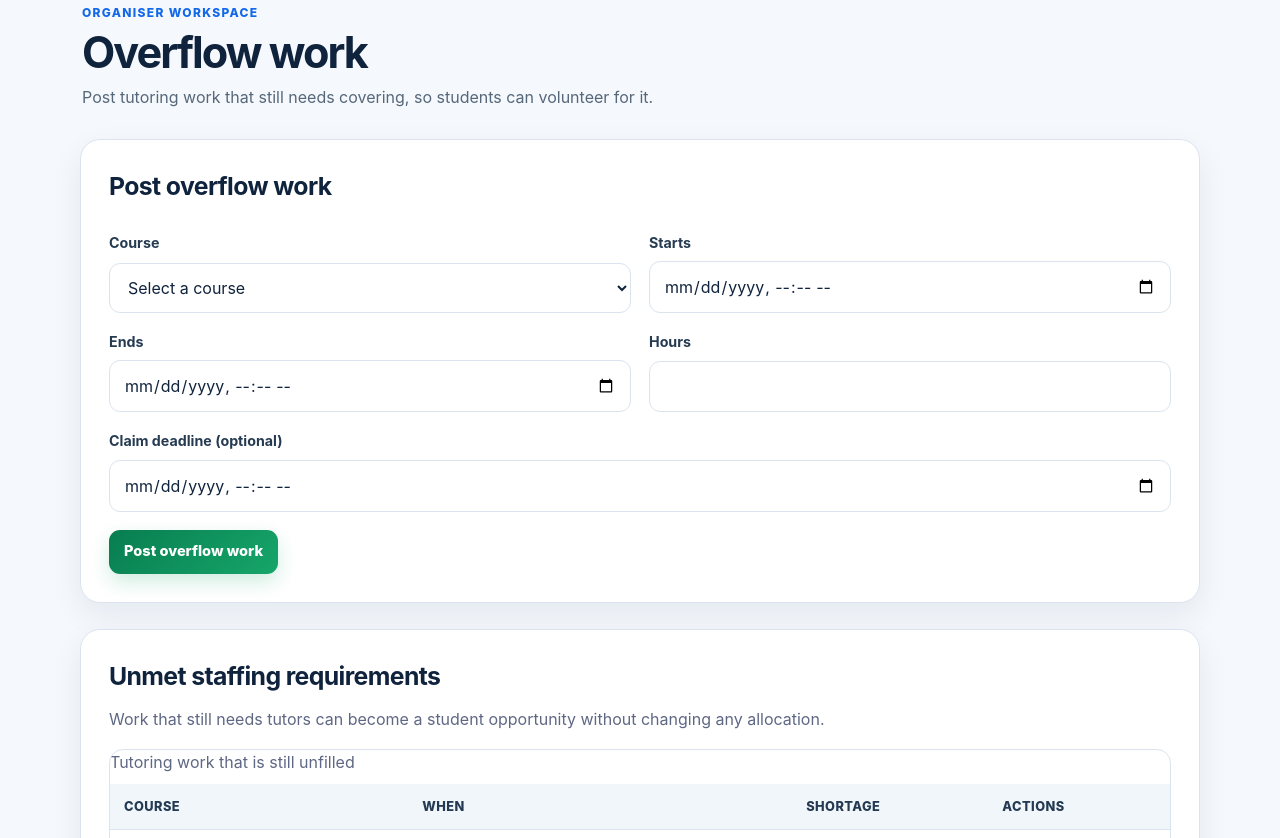
Test: OrganiserOverflow › refuses hours longer than the session before any request
Select "COMS3011 - Software Design Project" in the dropdown labelled "Course" at (370, 288), box [109,263,631,313]
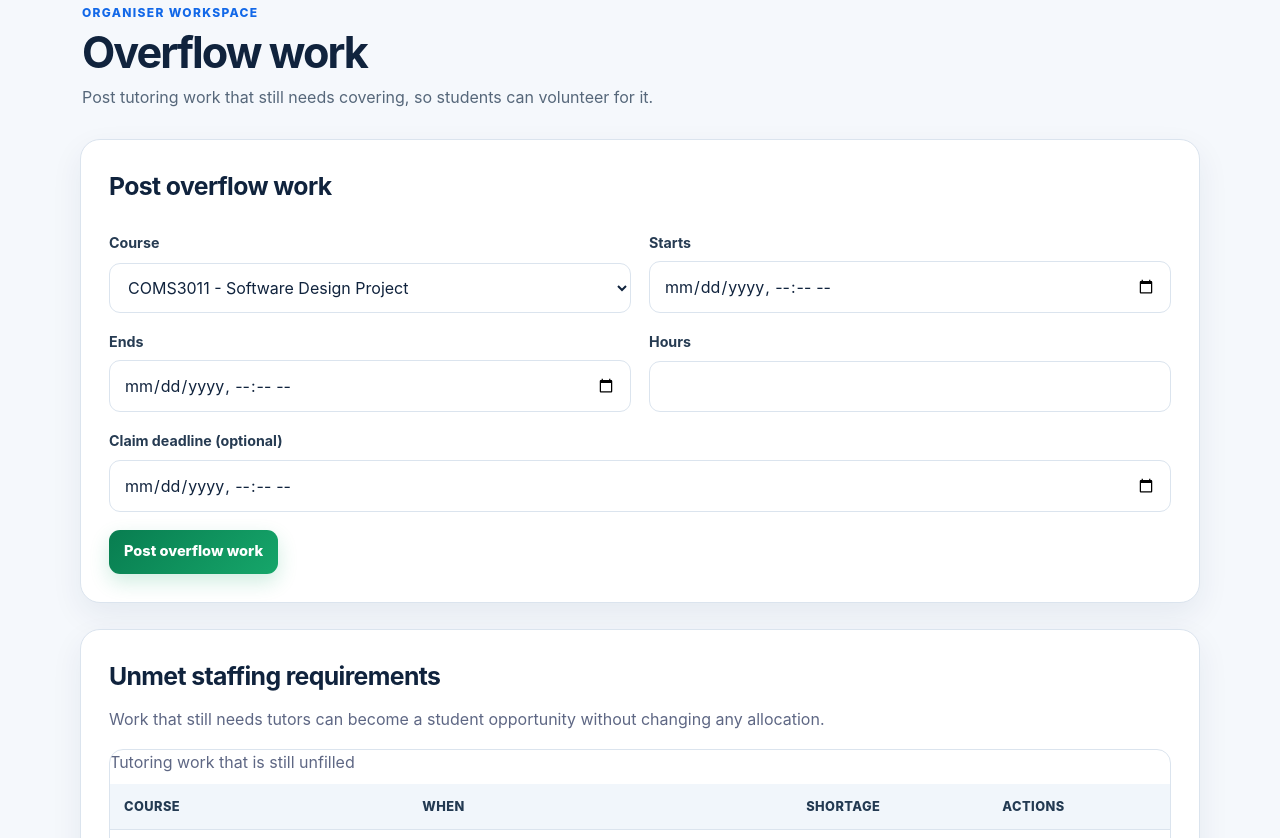
Type "2030-09-04T14:00" into the field labelled "Starts".
click(910, 287); type("2030-09-04T14:00")  # box [649,261,1171,313]
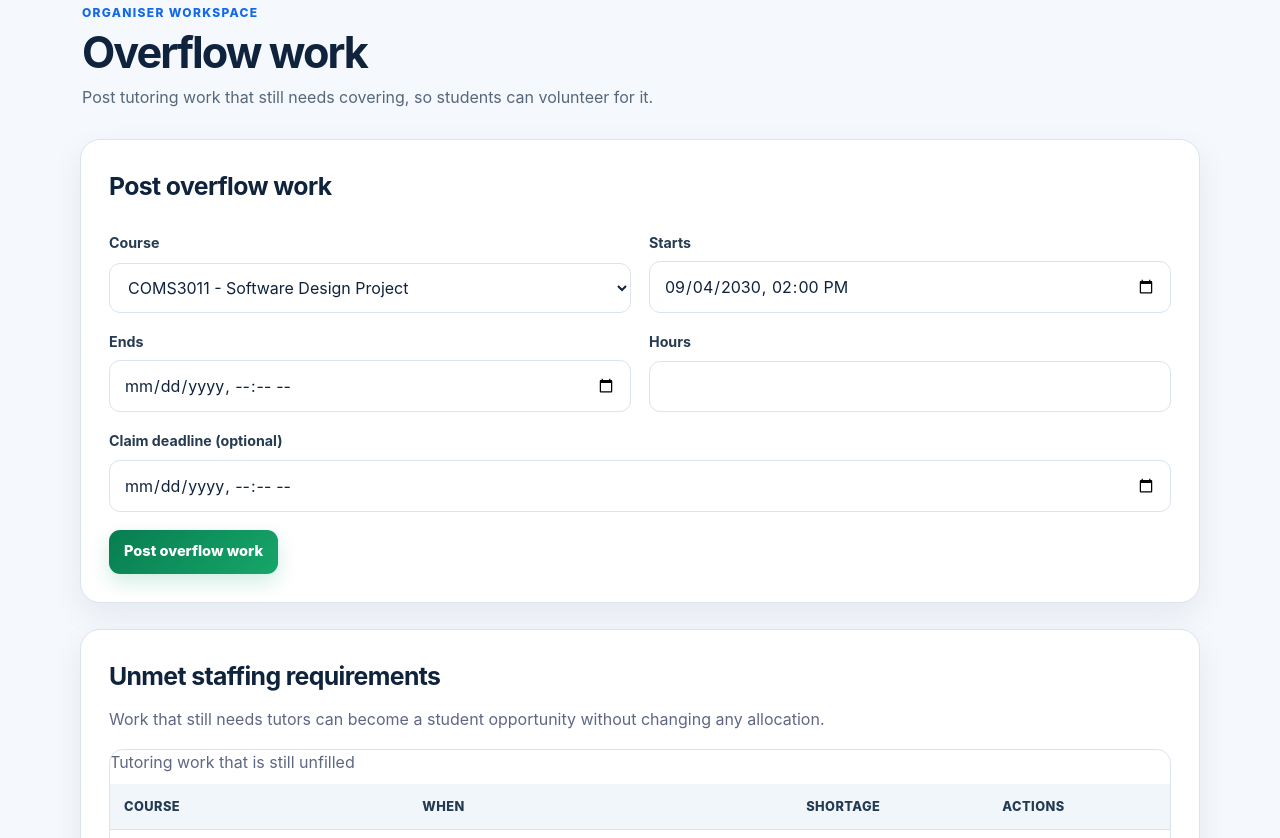
Type "2030-09-04T18:00" into the field labelled "Ends".
click(370, 386); type("2030-09-04T18:00")  # box [109,360,631,412]
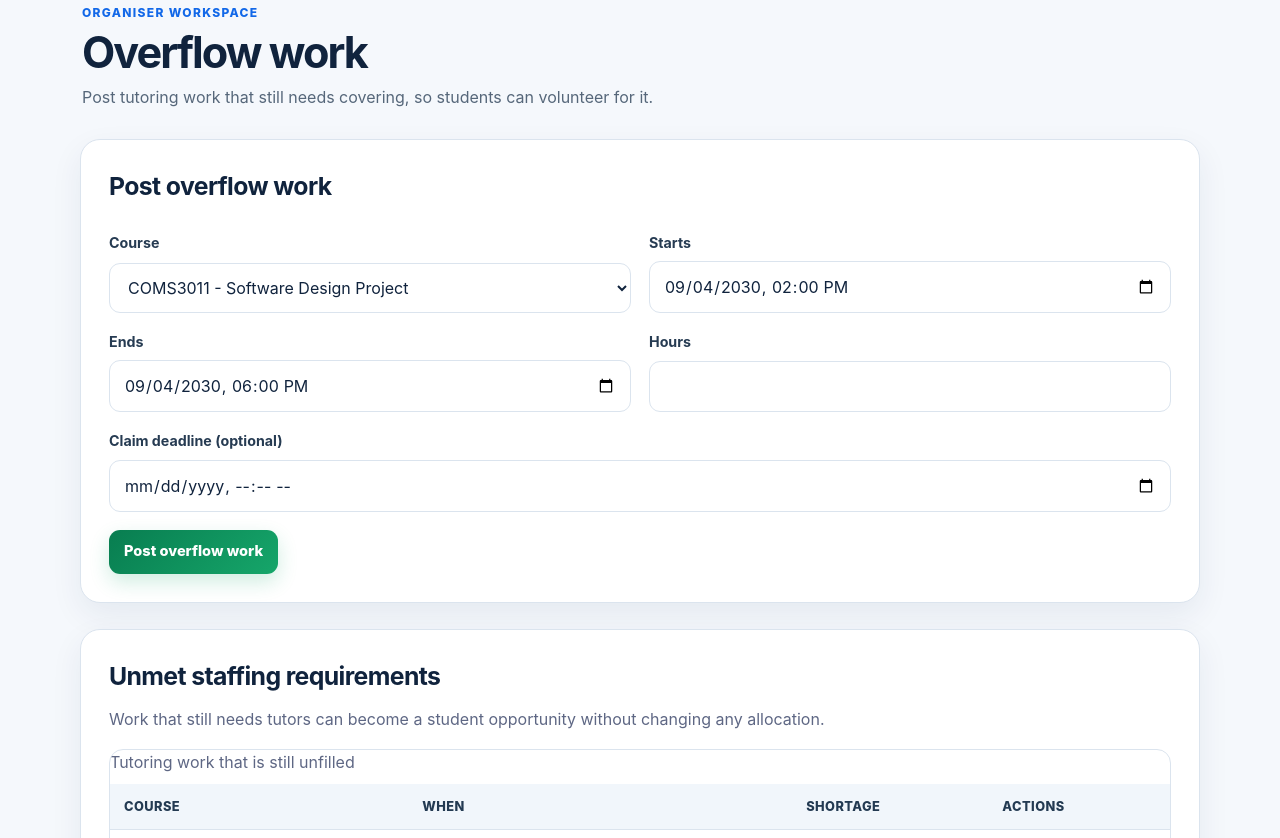
Type "4" into the number field labelled "Hours".
click(910, 387); type("4")  # box [649,361,1171,412]
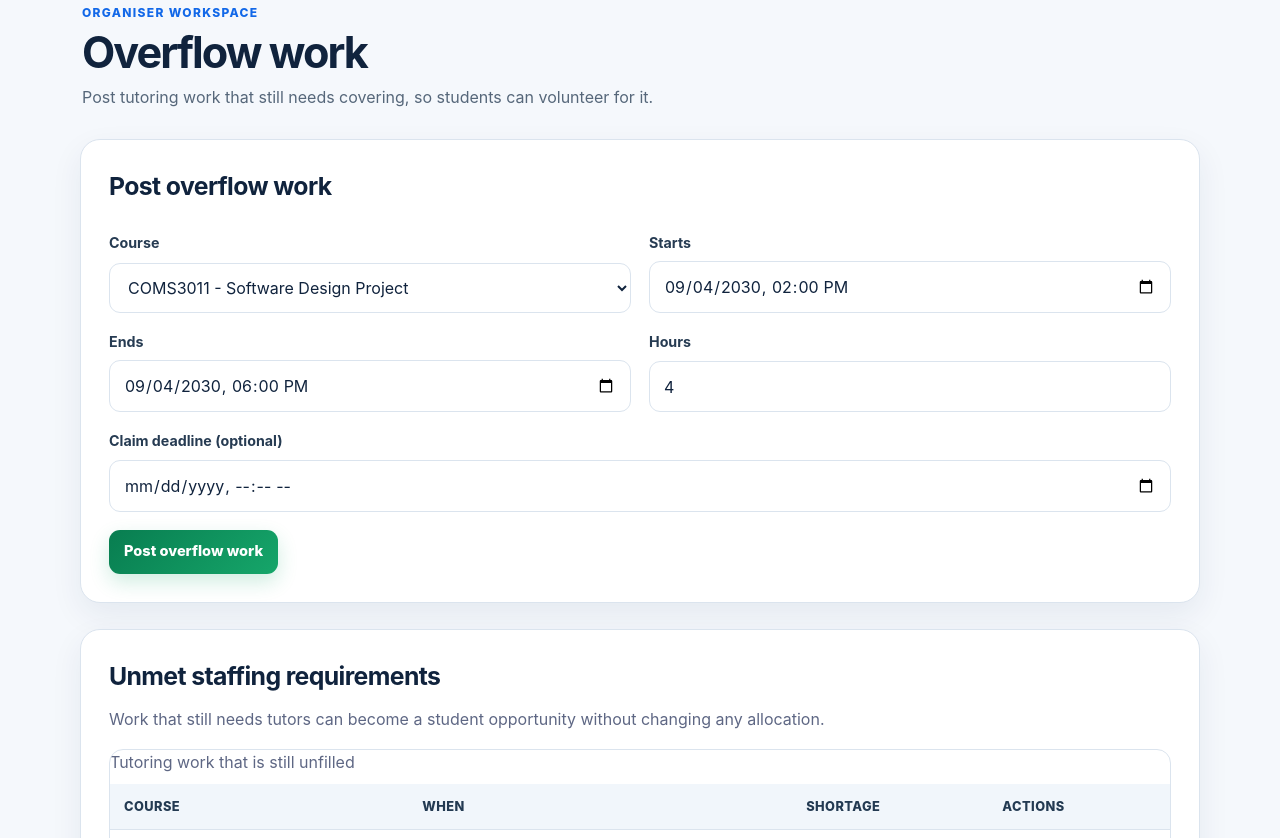
Replace the text in the number field labelled "Hours" with "5" at (910, 387), box [649,361,1171,412]
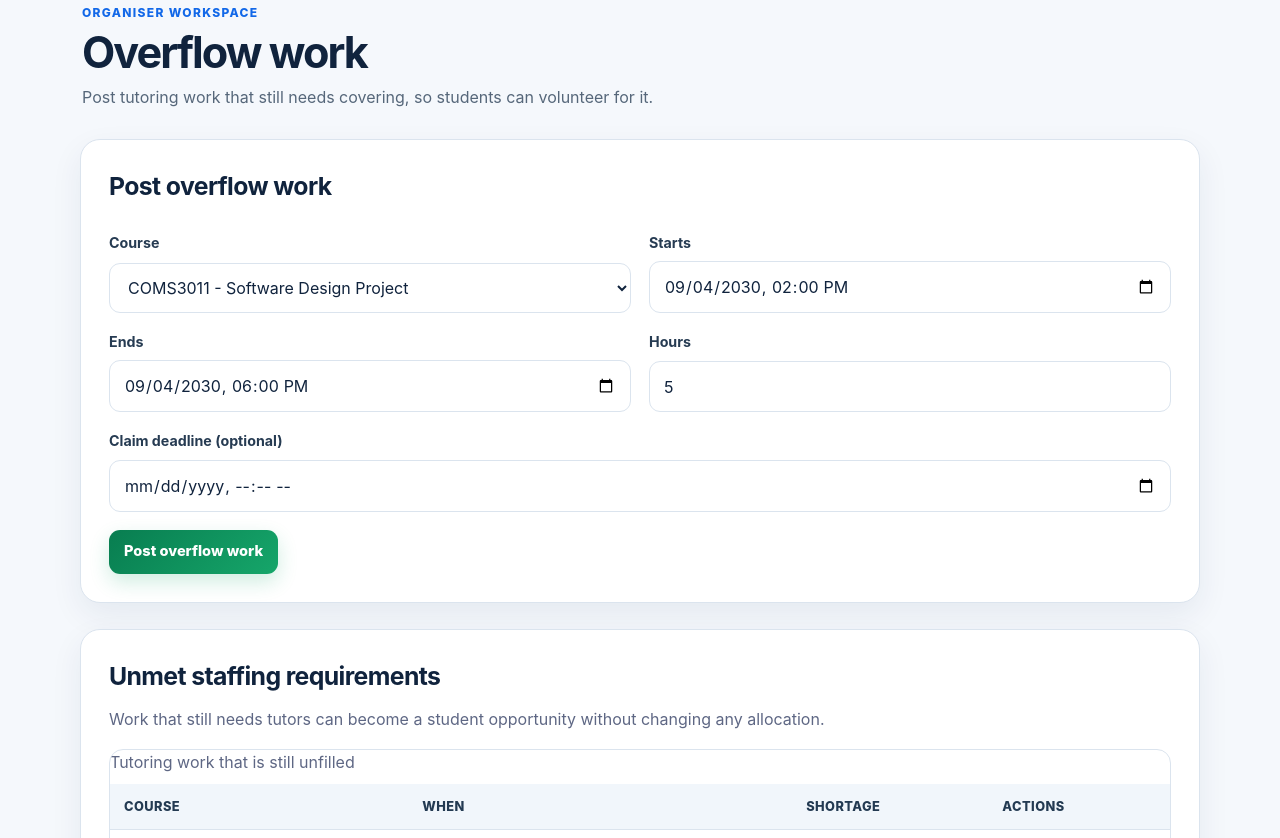
Click the button "Post overflow work".
click(194, 552)  # box [109,530,278,574]
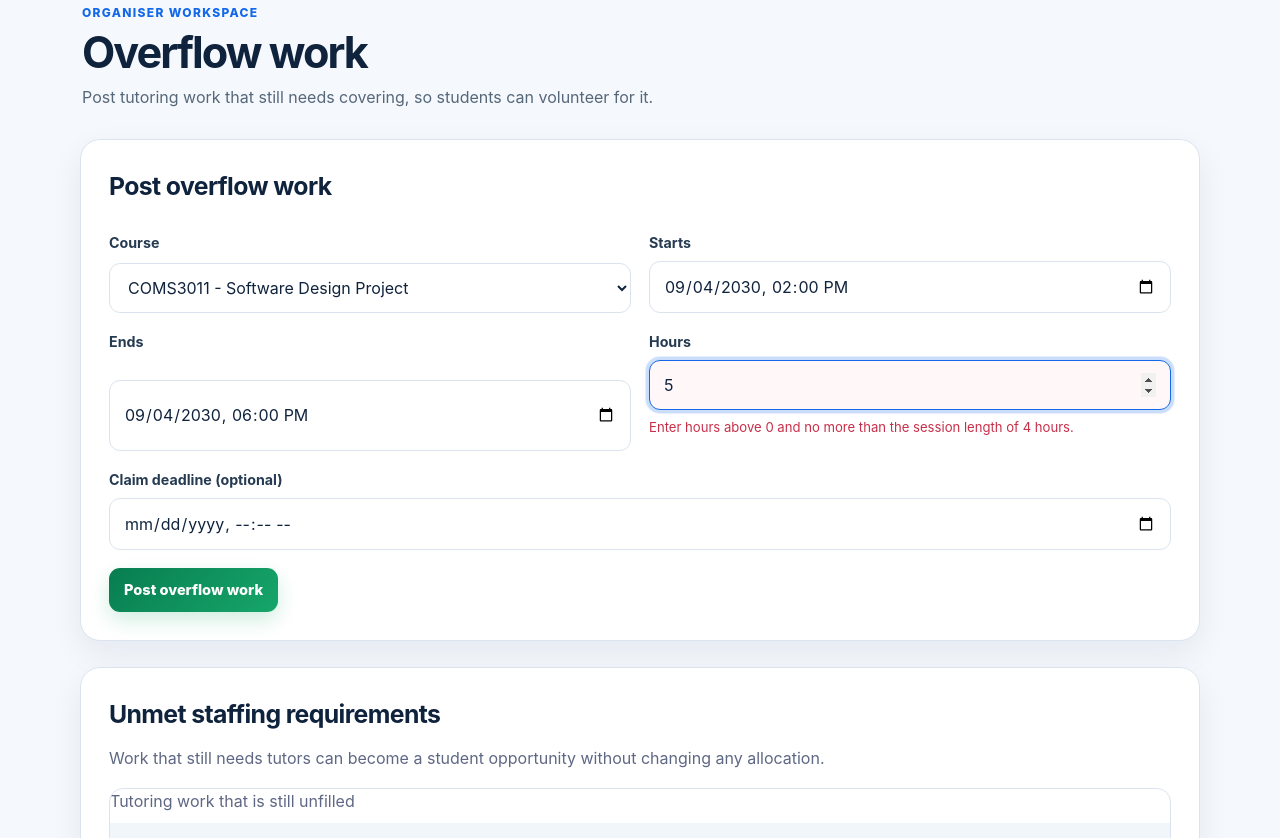
expect the text "no more than the session length of 4 hours" is shown: met, box [649,419,1074,435]
